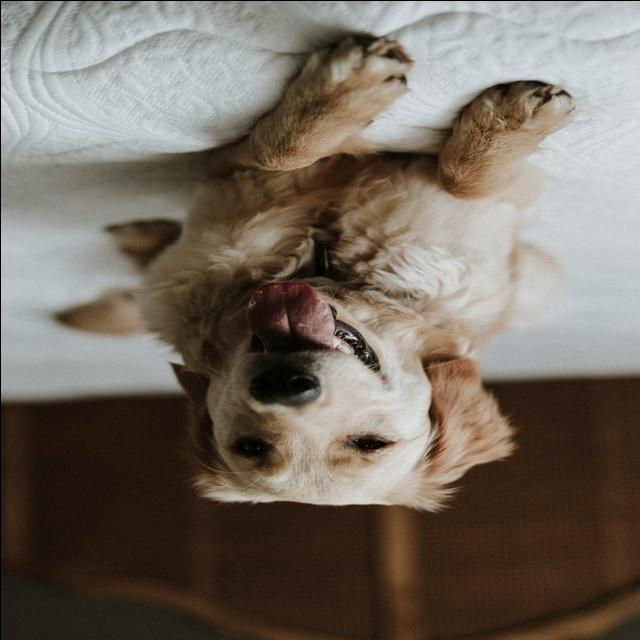retriever: (52, 33, 577, 514)
